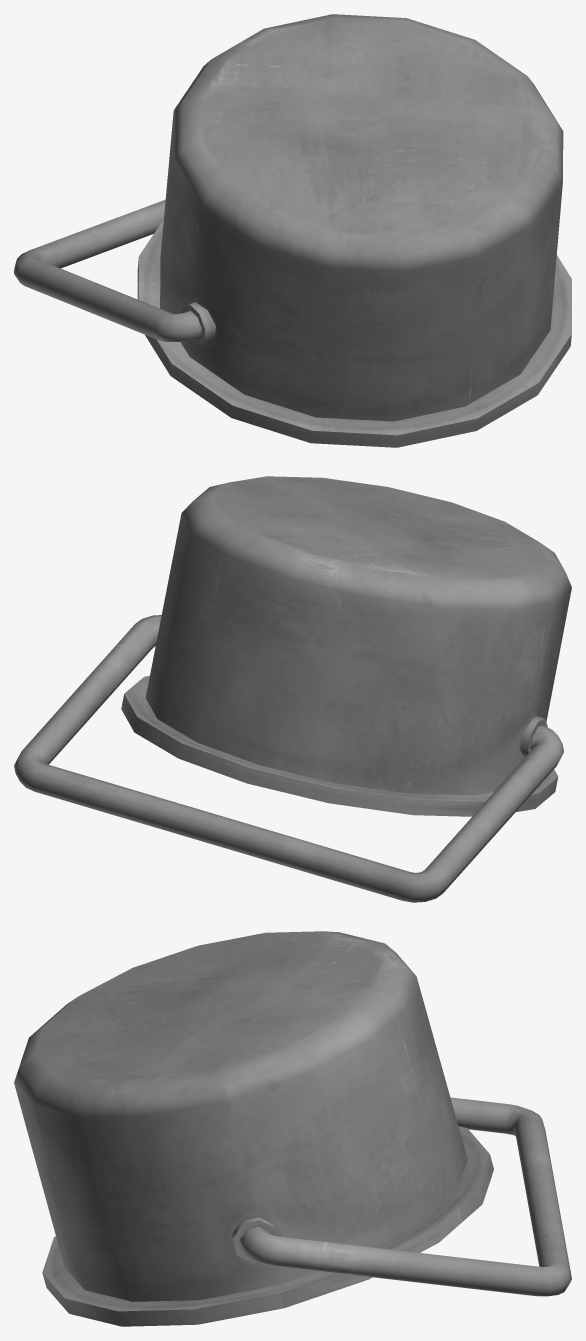
File: IG_Helmat_Pot.fbx
The picture shows the model from 3 angles, top to bottom: view 1: azimuth 30°, elevation 25°; view 2: azimuth 150°, elevation 25°; view 3: azimuth 270°, elevation 25°; orthographic projection. The views are drawn at different scales.
Visible parts, largest first — view 1: Pfb_Helmet_Pot; view 2: Pfb_Helmet_Pot; view 3: Pfb_Helmet_Pot.
Boxes of the visible parts, x1=… form: Pfb_Helmet_Pot: x1=14, y1=14, x2=571, y2=447; Pfb_Helmet_Pot: x1=14, y1=476, x2=571, y2=902; Pfb_Helmet_Pot: x1=14, y1=931, x2=571, y2=1326.
Bounding box in the file's own units: 0.7479 × 0.4981 × 0.8108.
